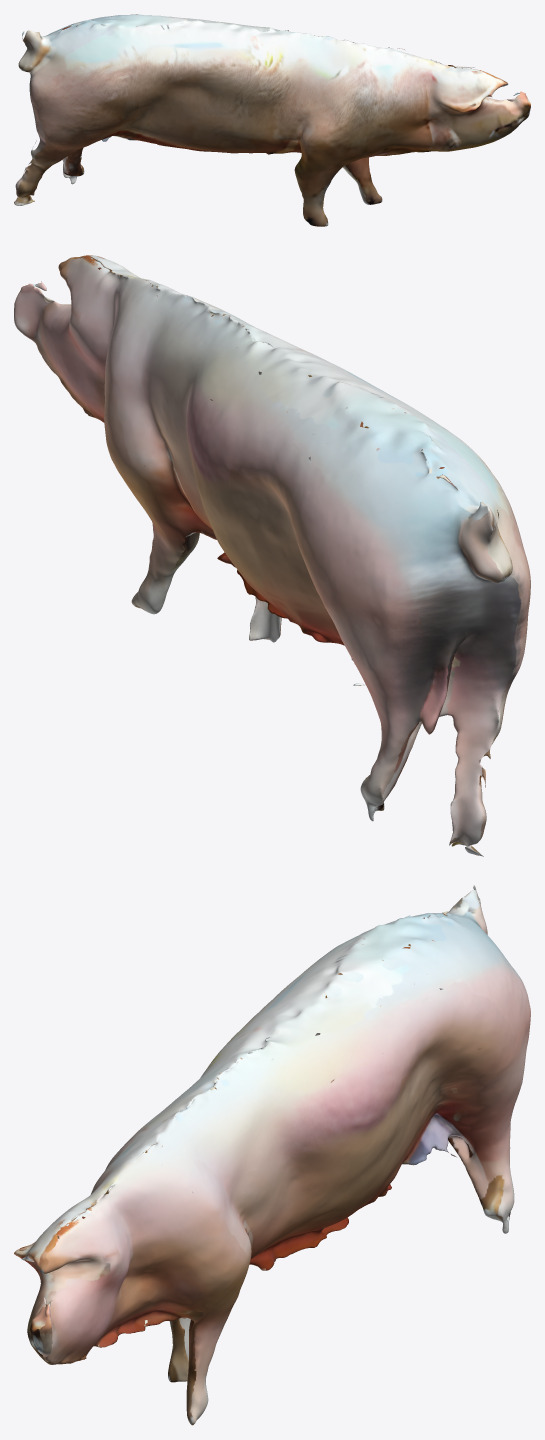
Rendered from adulto.glb.
3 views of the same model, one above another, from view 1: azimuth 30°, elevation 25°; view 2: azimuth 150°, elevation 25°; view 3: azimuth 270°, elevation 25° (orthographic). The views are drawn at different scales.
Parts seen in each view (by area): view 1: mesh; view 2: mesh; view 3: mesh.
Boxes of the visible parts, box(x1,y1,x2,y2) form: mesh: box(14, 14, 530, 226); mesh: box(14, 255, 530, 856); mesh: box(14, 885, 530, 1425).
Size of the model in its own units: 1.61 by 0.7709 by 1.09.
1 material, 1 textured.
